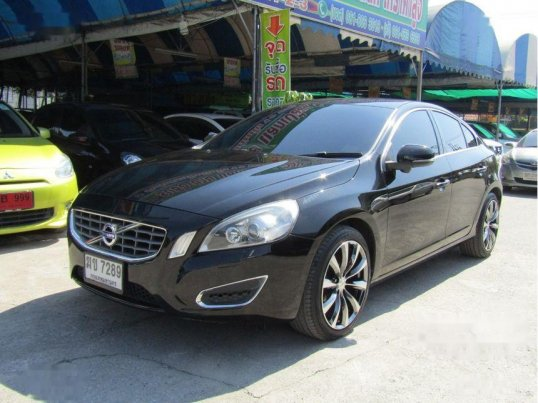sedan: (66, 94, 504, 345)
